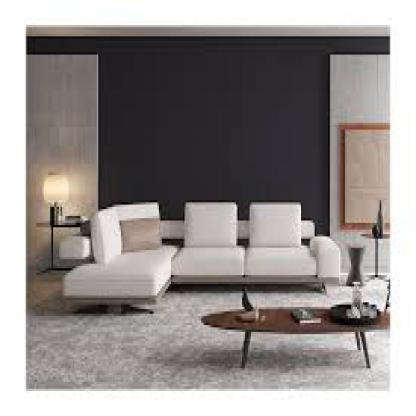sofa: (68, 200, 343, 318)
